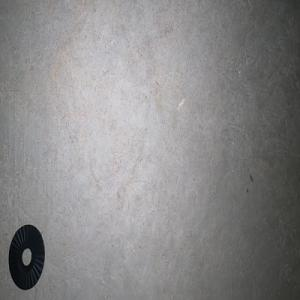Washer: (8, 224, 44, 290)
